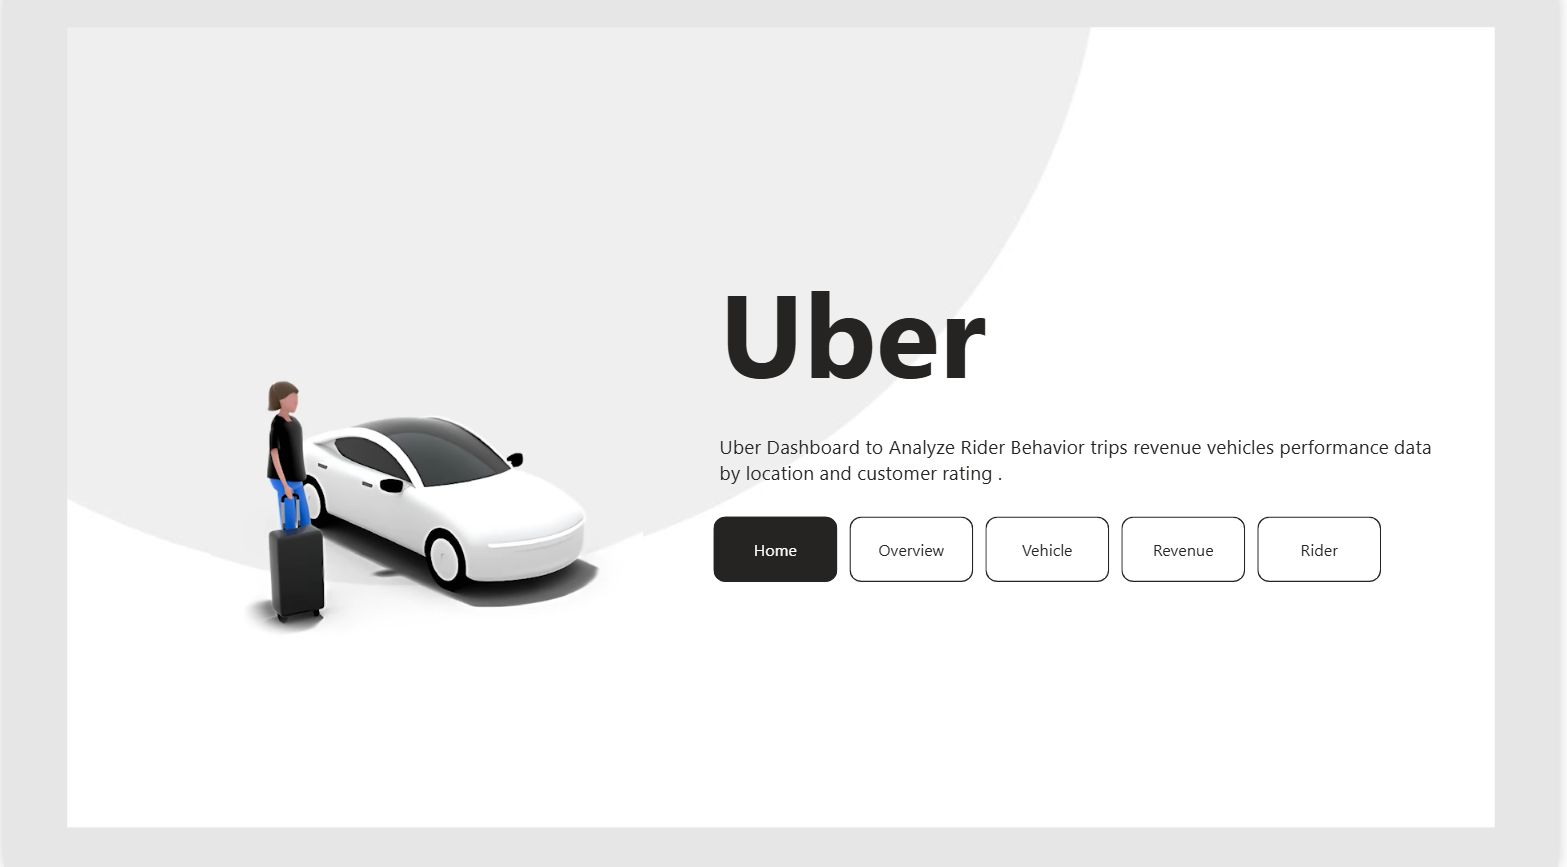

This screenshot's page, from the dashboard's own definition file:
{"tool":"powerbi","page":{"name":"Home ","canvas":[1280,720],"ordinal":0},"visuals":[{"type":"textbox","box":[584.5,209,280.1,137.8],"z":0},{"type":"pageNavigator","box":[584.5,431.5,551.2,54.5],"z":1000},{"type":"textbox","box":[584.5,357.4,607.2,56],"z":2000},{"type":"image","box":[171.1,156,355.8,563.3],"z":3000}]}

Visuals, with their boxes in screenshot pixels (x1, y1, x2, y2), scaled from the page's 1280x720 canvas onto the 1567x867 screenshot:
textbox: bbox=(716, 252, 1058, 418)
pageNavigator: bbox=(716, 520, 1390, 585)
textbox: bbox=(716, 430, 1459, 498)
image: bbox=(209, 188, 645, 866)
